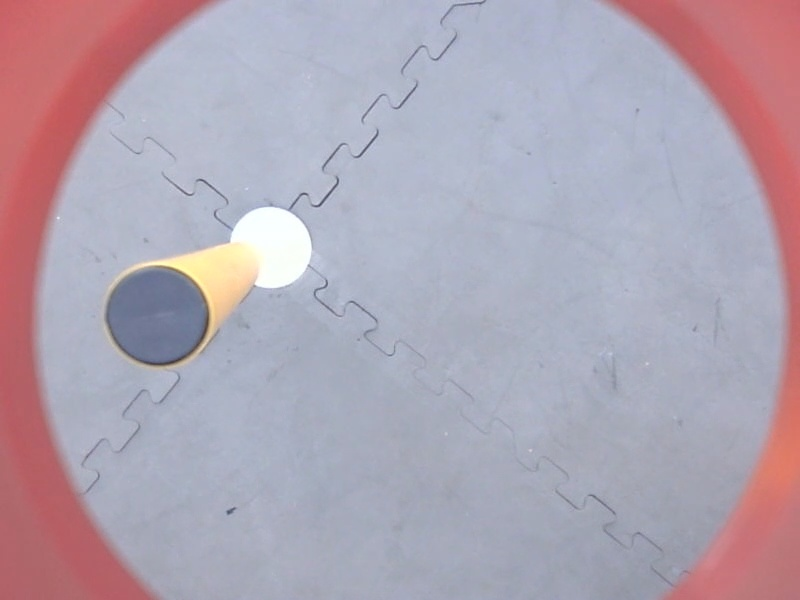tip: (96, 255, 219, 375)
